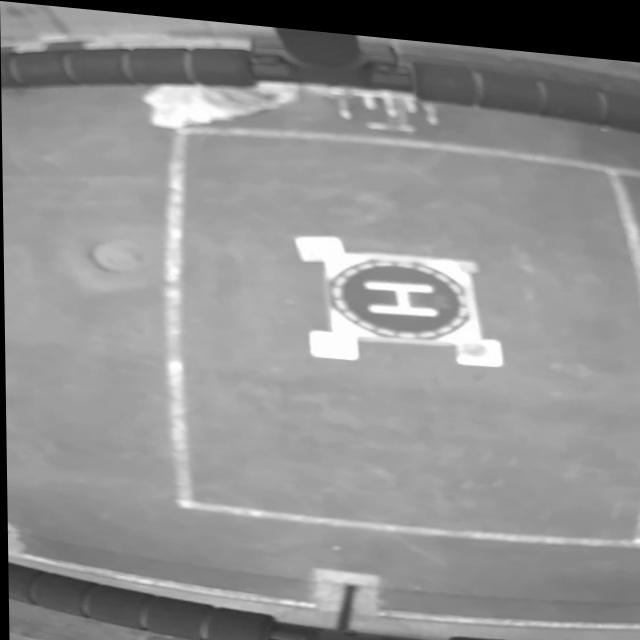Helipad: (363, 272, 441, 308)
